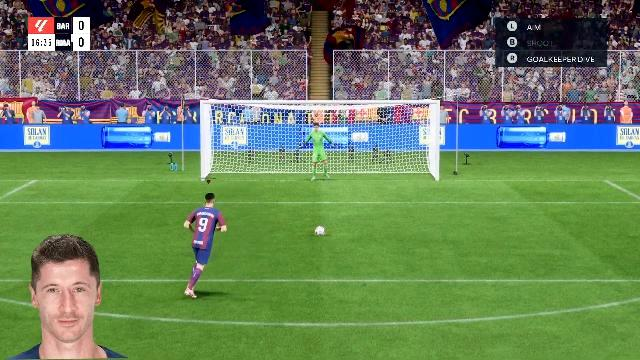bottom-left: (205, 148, 279, 180)
bottom-right: (355, 148, 435, 180)
center-down: (282, 150, 352, 180)
center-up: (282, 104, 354, 144)
football: (314, 228, 326, 236)
goalkeeper: (296, 124, 346, 182)
player: (185, 194, 243, 300)
top-left: (206, 104, 280, 146)
top-right: (355, 104, 435, 146)
